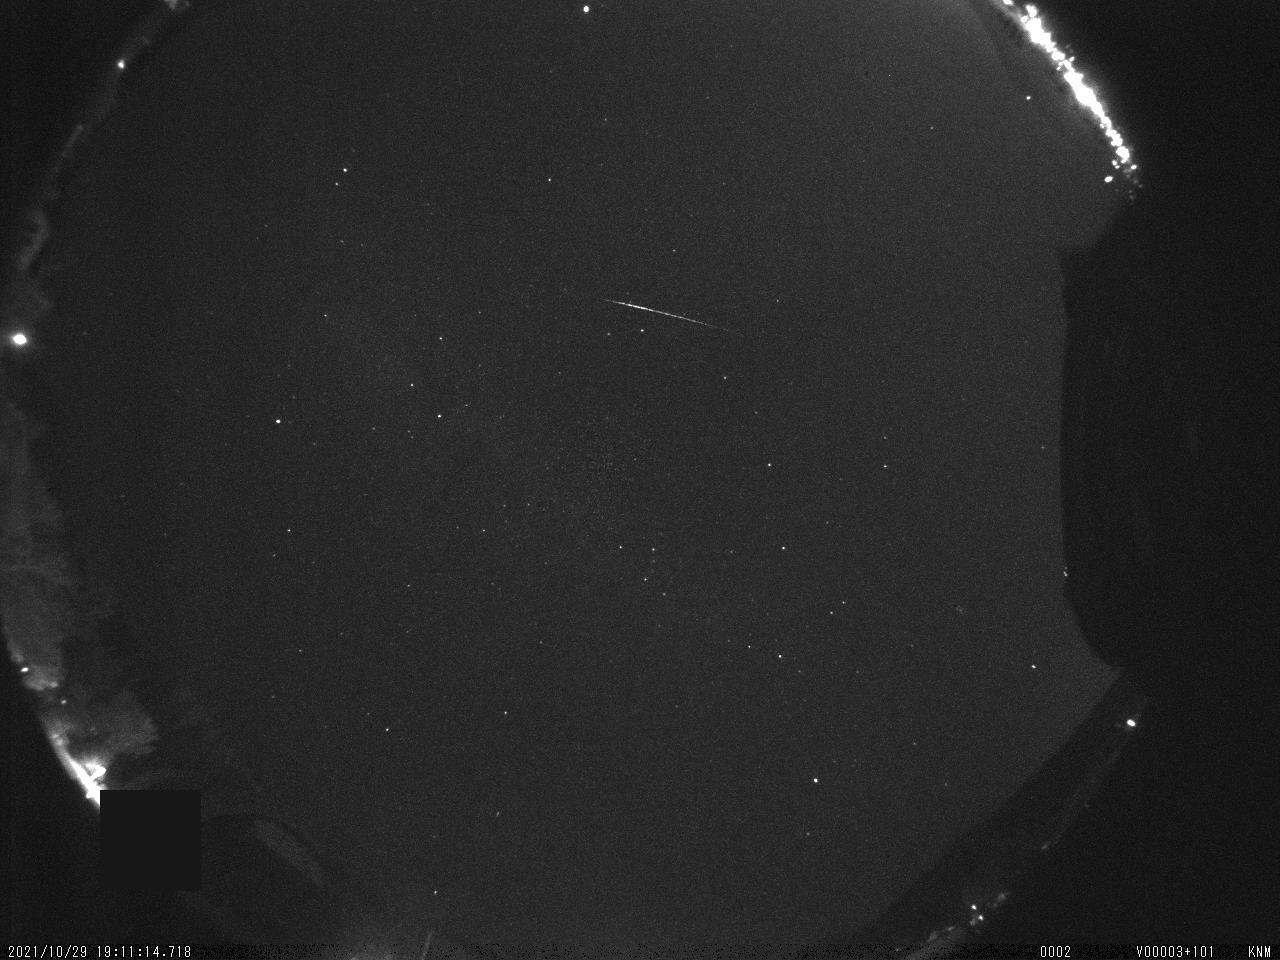meteor: (586, 283, 756, 347)
